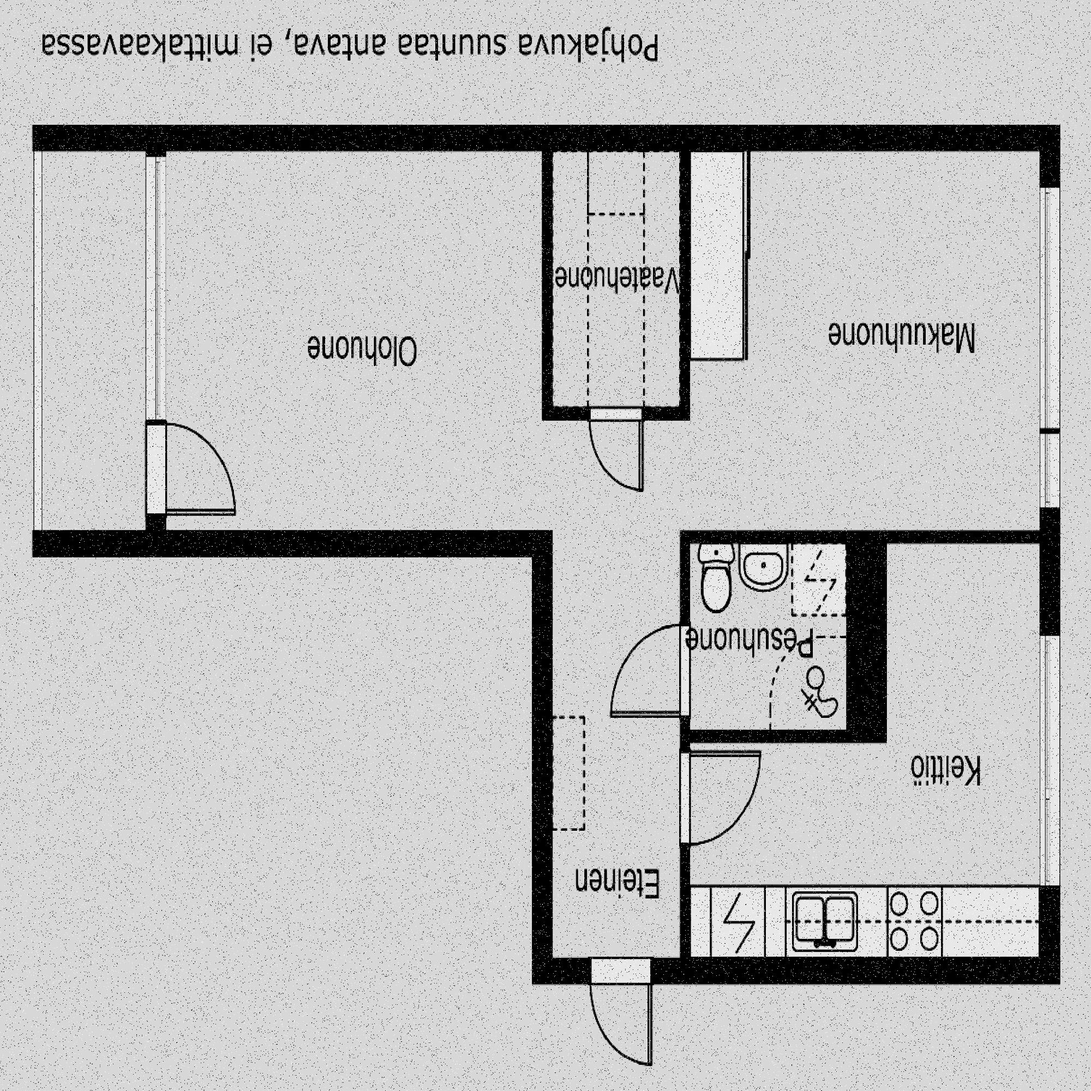wall: (145, 124, 1058, 150), (1040, 124, 1059, 983), (531, 957, 1059, 983), (145, 530, 550, 556), (531, 530, 551, 983), (846, 530, 887, 743), (145, 124, 165, 556), (679, 530, 1059, 543), (679, 530, 689, 983), (678, 124, 688, 418), (541, 124, 551, 418), (33, 530, 145, 556), (33, 124, 145, 150), (678, 729, 886, 742), (541, 405, 688, 418)
